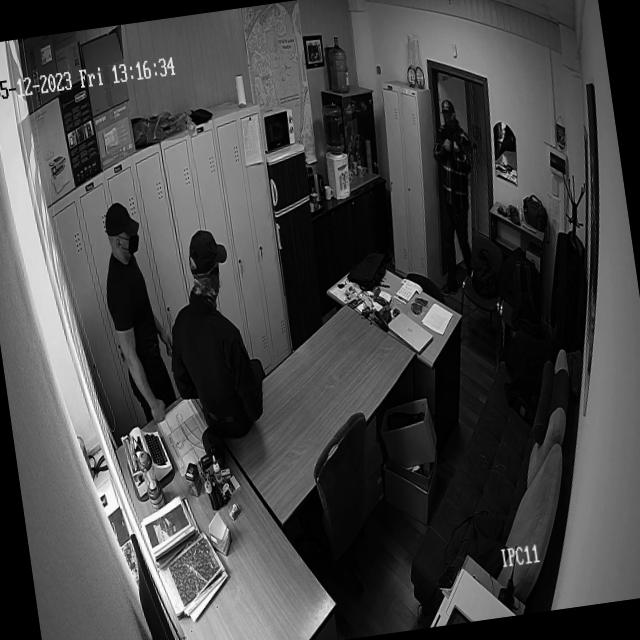gun: (442, 132, 468, 170), (496, 203, 508, 218)
person: (154, 226, 274, 451), (91, 185, 182, 422)
person with a gun: (416, 100, 490, 297)
